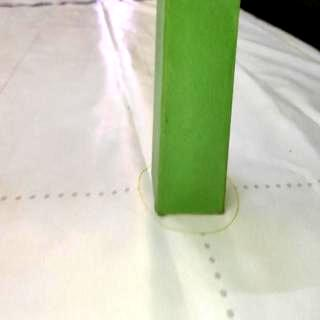greenbox: (150, 0, 242, 214)
